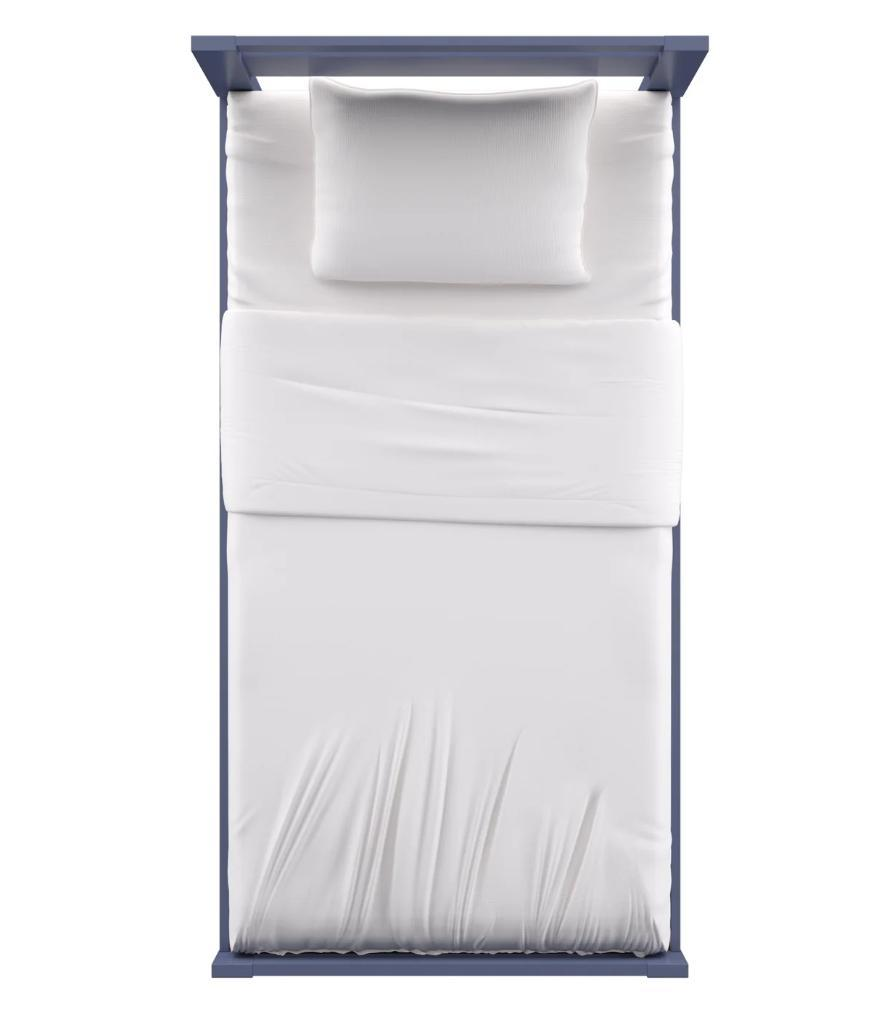Bed-Mattress: (184, 24, 718, 998)
